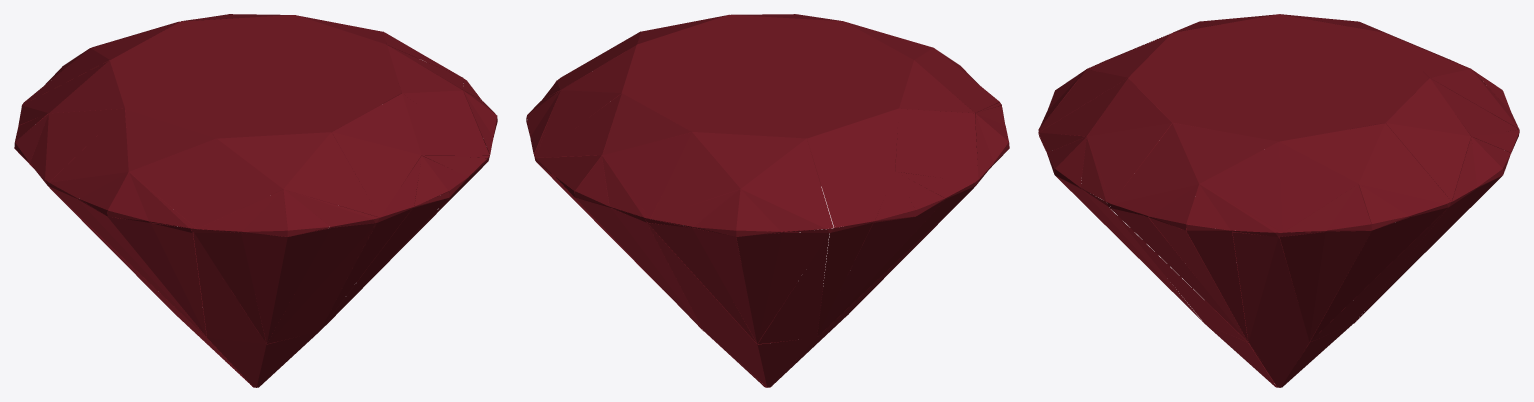
The model's file is raw_ruby.glb.
3 renders of one model, left to right at view 1: azimuth 30°, elevation 25°; view 2: azimuth 150°, elevation 25°; view 3: azimuth 270°, elevation 25°, orthographic.
Parts seen in each view (by area): view 1: Cylinder001_Material #27_0; view 2: Cylinder001_Material #27_0; view 3: Cylinder001_Material #27_0.
Part boxes in pixels (x1=…): Cylinder001_Material #27_0: x1=14, y1=14, x2=497, y2=387; Cylinder001_Material #27_0: x1=526, y1=14, x2=1009, y2=387; Cylinder001_Material #27_0: x1=1038, y1=14, x2=1519, y2=387.
Size of the model in its own units: 68.97 by 48.82 by 68.96.
